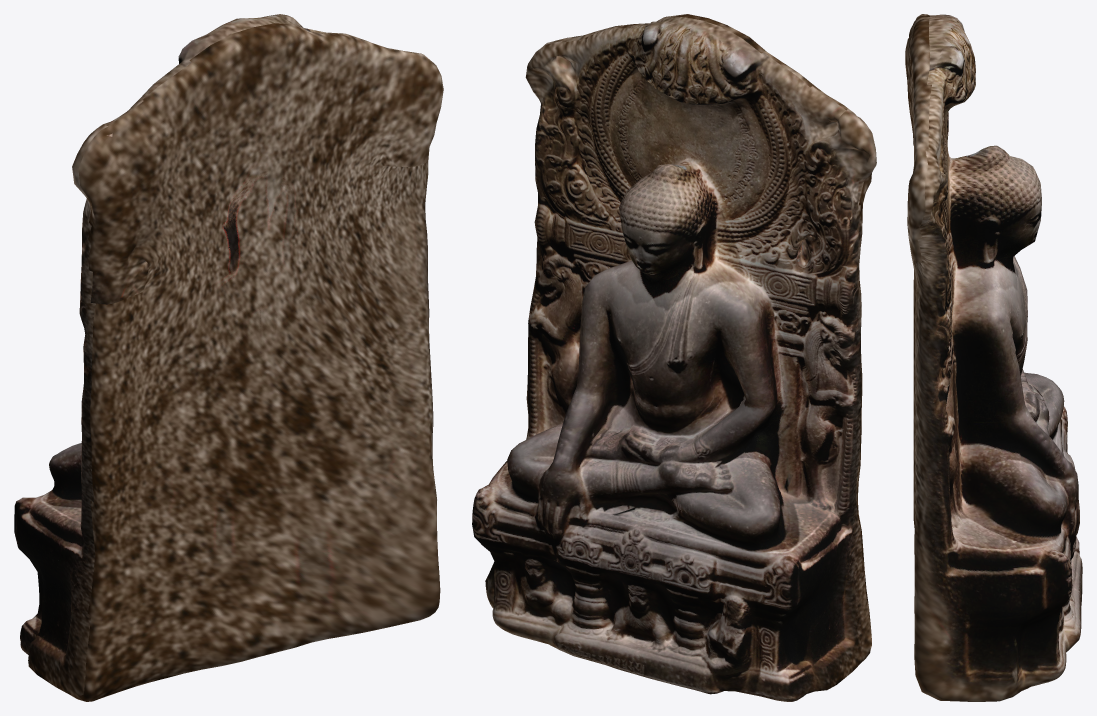
Rendered from buddha.glb.
3 views of the same model, side by side, from view 1: azimuth 30°, elevation 25°; view 2: azimuth 150°, elevation 25°; view 3: azimuth 270°, elevation 25° (orthographic). The views are drawn at different scales.
Parts seen in each view (by area): view 1: Budda-LR1; view 2: Budda-LR1; view 3: Budda-LR1.
Boxes of the visible parts, x1,y1,x2,y2 form: Budda-LR1: (14, 14, 443, 701); Budda-LR1: (472, 14, 876, 701); Budda-LR1: (905, 14, 1082, 701).
Size of the model in its own units: 1.89 by 3.08 by 0.8391.
2 materials, 2 textured.
